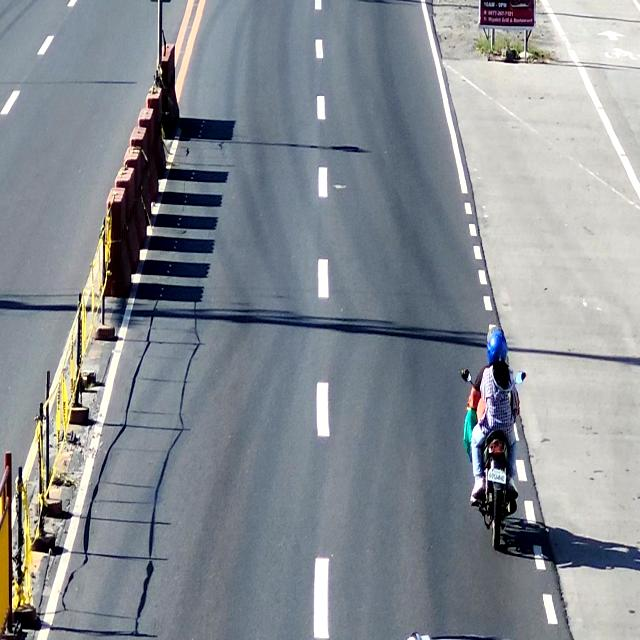License-Plate: (484, 465, 510, 491)
Motorcycle: (462, 332, 528, 557)
